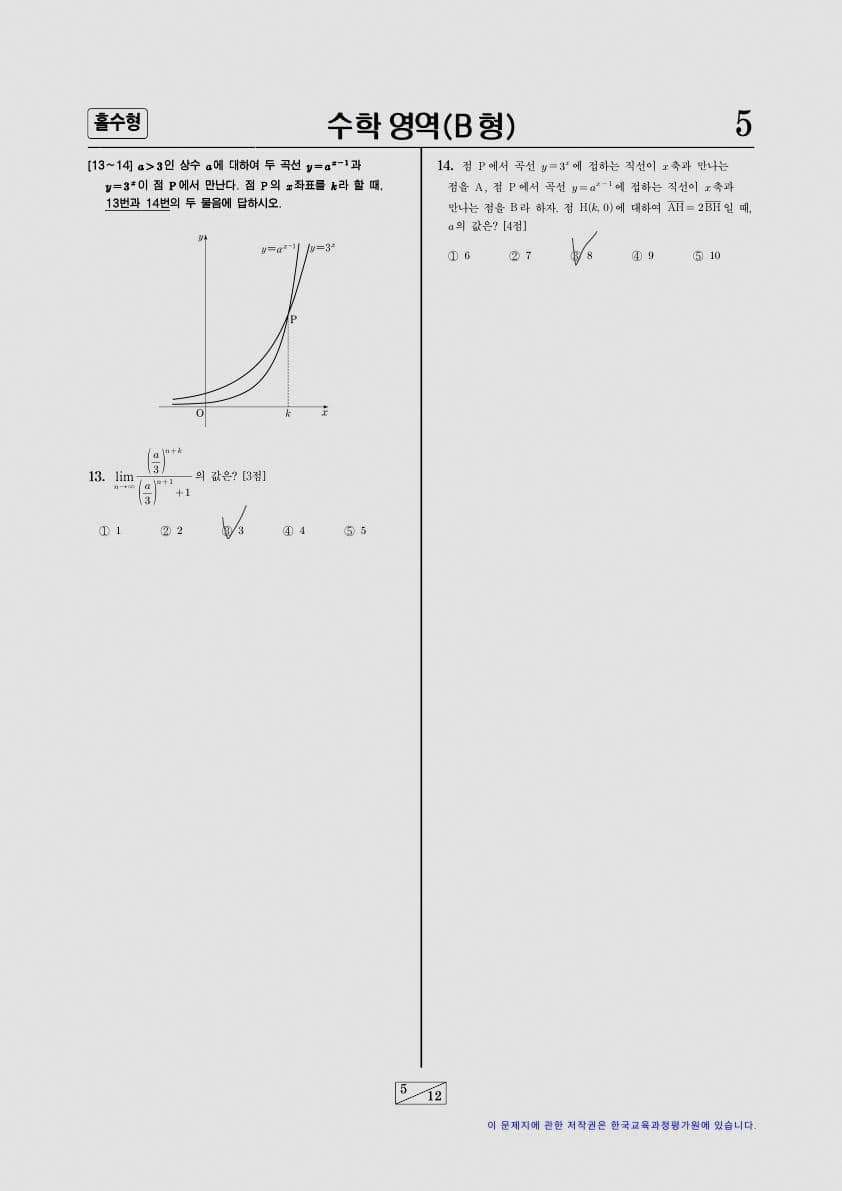question: (62, 148, 398, 565), (419, 152, 762, 279)
